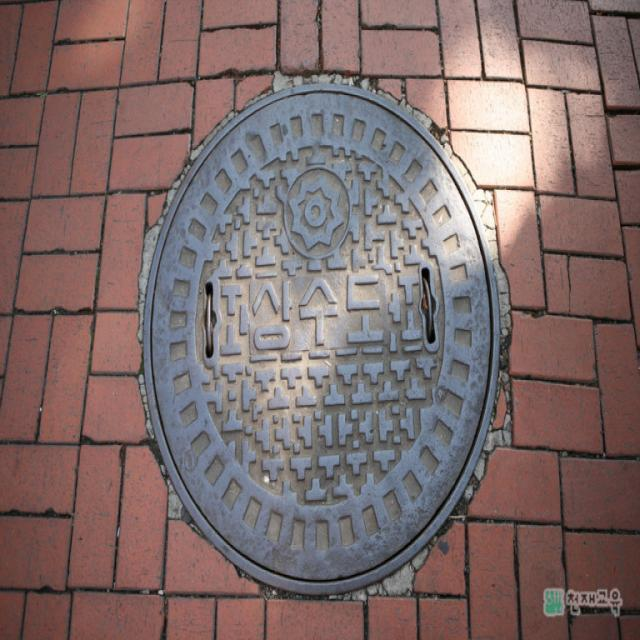manhole: (141, 75, 506, 594)
